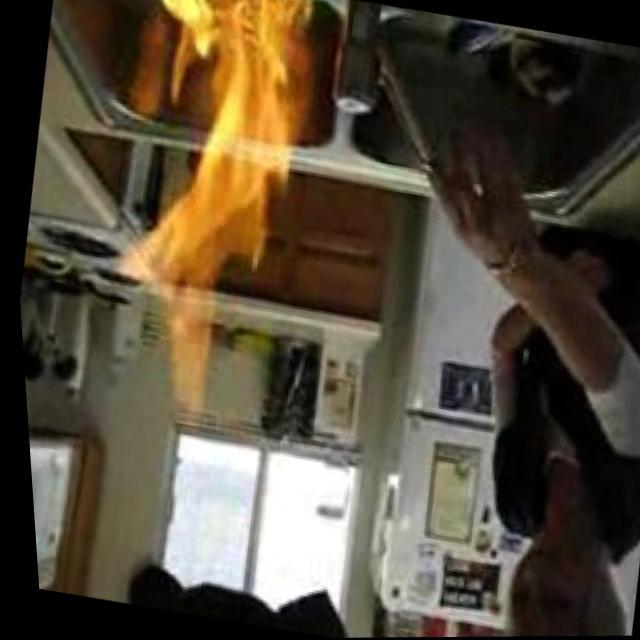fire: (88, 1, 330, 412)
